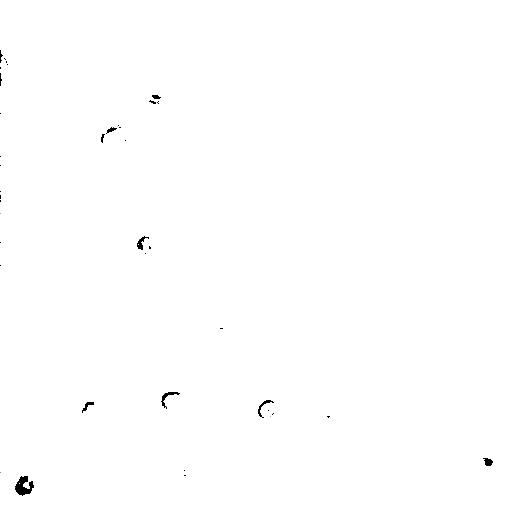micro-algae: (150, 442, 204, 500), (8, 465, 47, 501), (471, 443, 503, 475), (99, 120, 129, 153), (132, 230, 162, 256), (76, 394, 107, 418), (158, 387, 185, 411), (257, 398, 277, 418), (1, 51, 11, 81)
